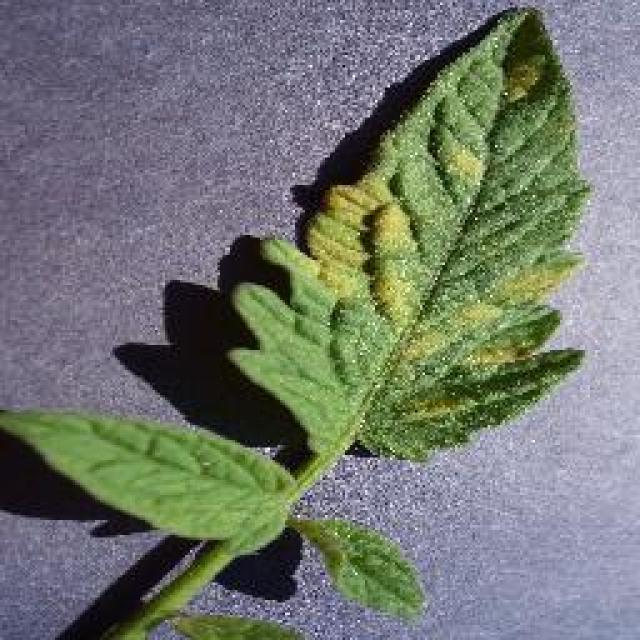Tomato mold leaf: (262, 6, 596, 452)
